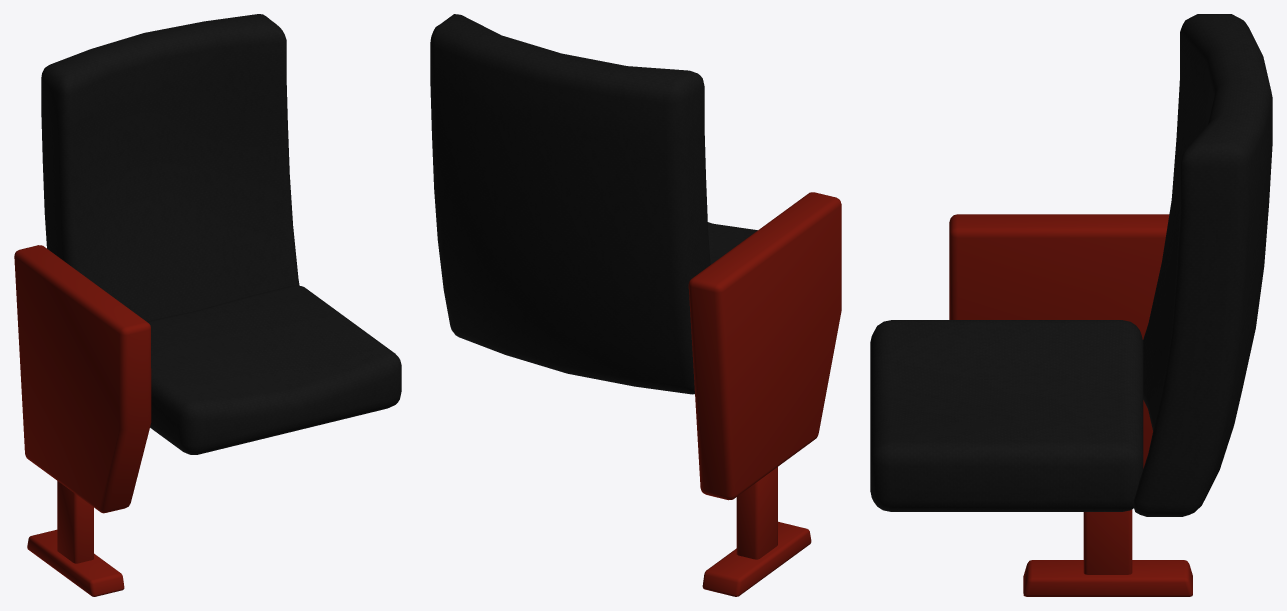
The model's file is chairopen.fbx.
3 renders of one model, left to right at view 1: azimuth 30°, elevation 25°; view 2: azimuth 150°, elevation 25°; view 3: azimuth 270°, elevation 25°, orthographic. The views are drawn at different scales.
Visible parts, largest first — view 1: respaldo, reposabrazos, almohadon; view 2: respaldo, reposabrazos, almohadon; view 3: almohadon, respaldo, reposabrazos.
Boxes of the visible parts, box(x1,y1,x2,y2) form: respaldo: box(41, 14, 299, 321); reposabrazos: box(14, 245, 151, 596); almohadon: box(146, 285, 401, 454); respaldo: box(430, 14, 710, 394); reposabrazos: box(688, 192, 841, 596); almohadon: box(708, 222, 757, 264); almohadon: box(870, 320, 1143, 511); respaldo: box(1133, 14, 1272, 516); reposabrazos: box(949, 214, 1192, 596).
Size of the model in its own units: 104 by 177 by 110.
2 materials, 2 textured.
